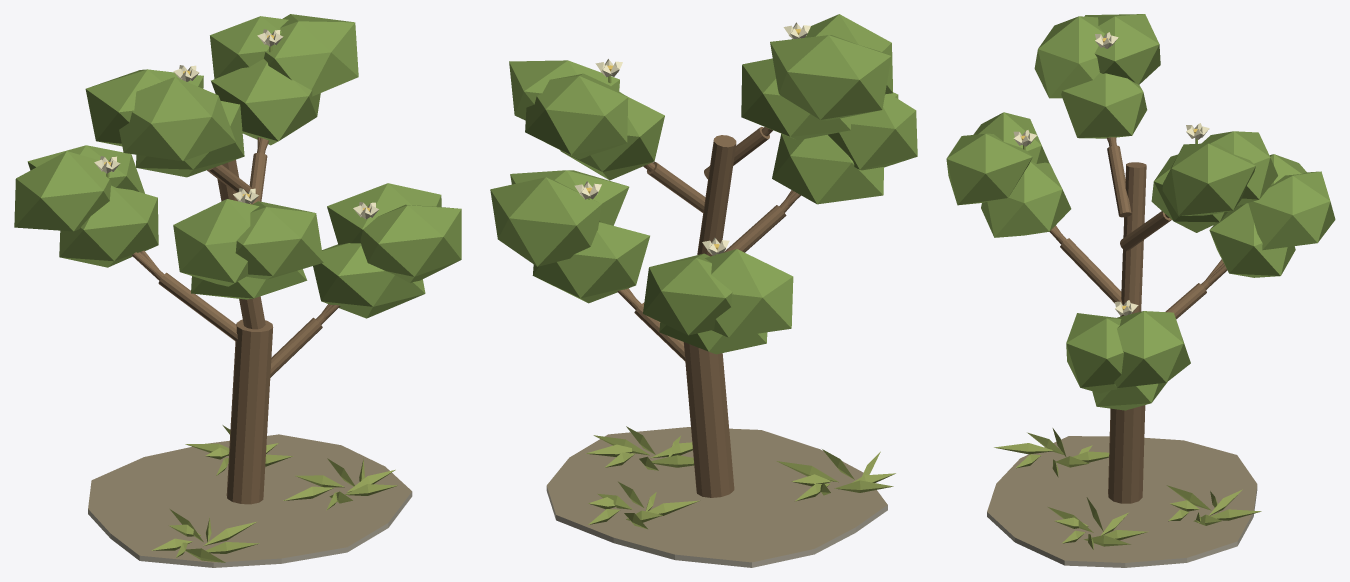
Rendered from Skeletal_Tree_Flourishing.glb.
3 renders of one model, left to right at view 1: azimuth 30°, elevation 25°; view 2: azimuth 150°, elevation 25°; view 3: azimuth 270°, elevation 25°, orthographic. The views are drawn at different scales.
Parts seen in each view (by area): view 1: Growth, Support; view 2: Growth, Support; view 3: Growth, Support.
Boxes of the visible parts, left/top/right/bottom form: Growth: left=14, top=14, right=461, bottom=562; Support: left=88, top=434, right=412, bottom=567; Growth: left=490, top=14, right=917, bottom=529; Support: left=546, top=427, right=887, bottom=567; Growth: left=946, top=14, right=1335, bottom=549; Support: left=987, top=436, right=1257, bottom=567.
Bounding box in the file's own units: 3.57 × 4.43 × 3.52.
